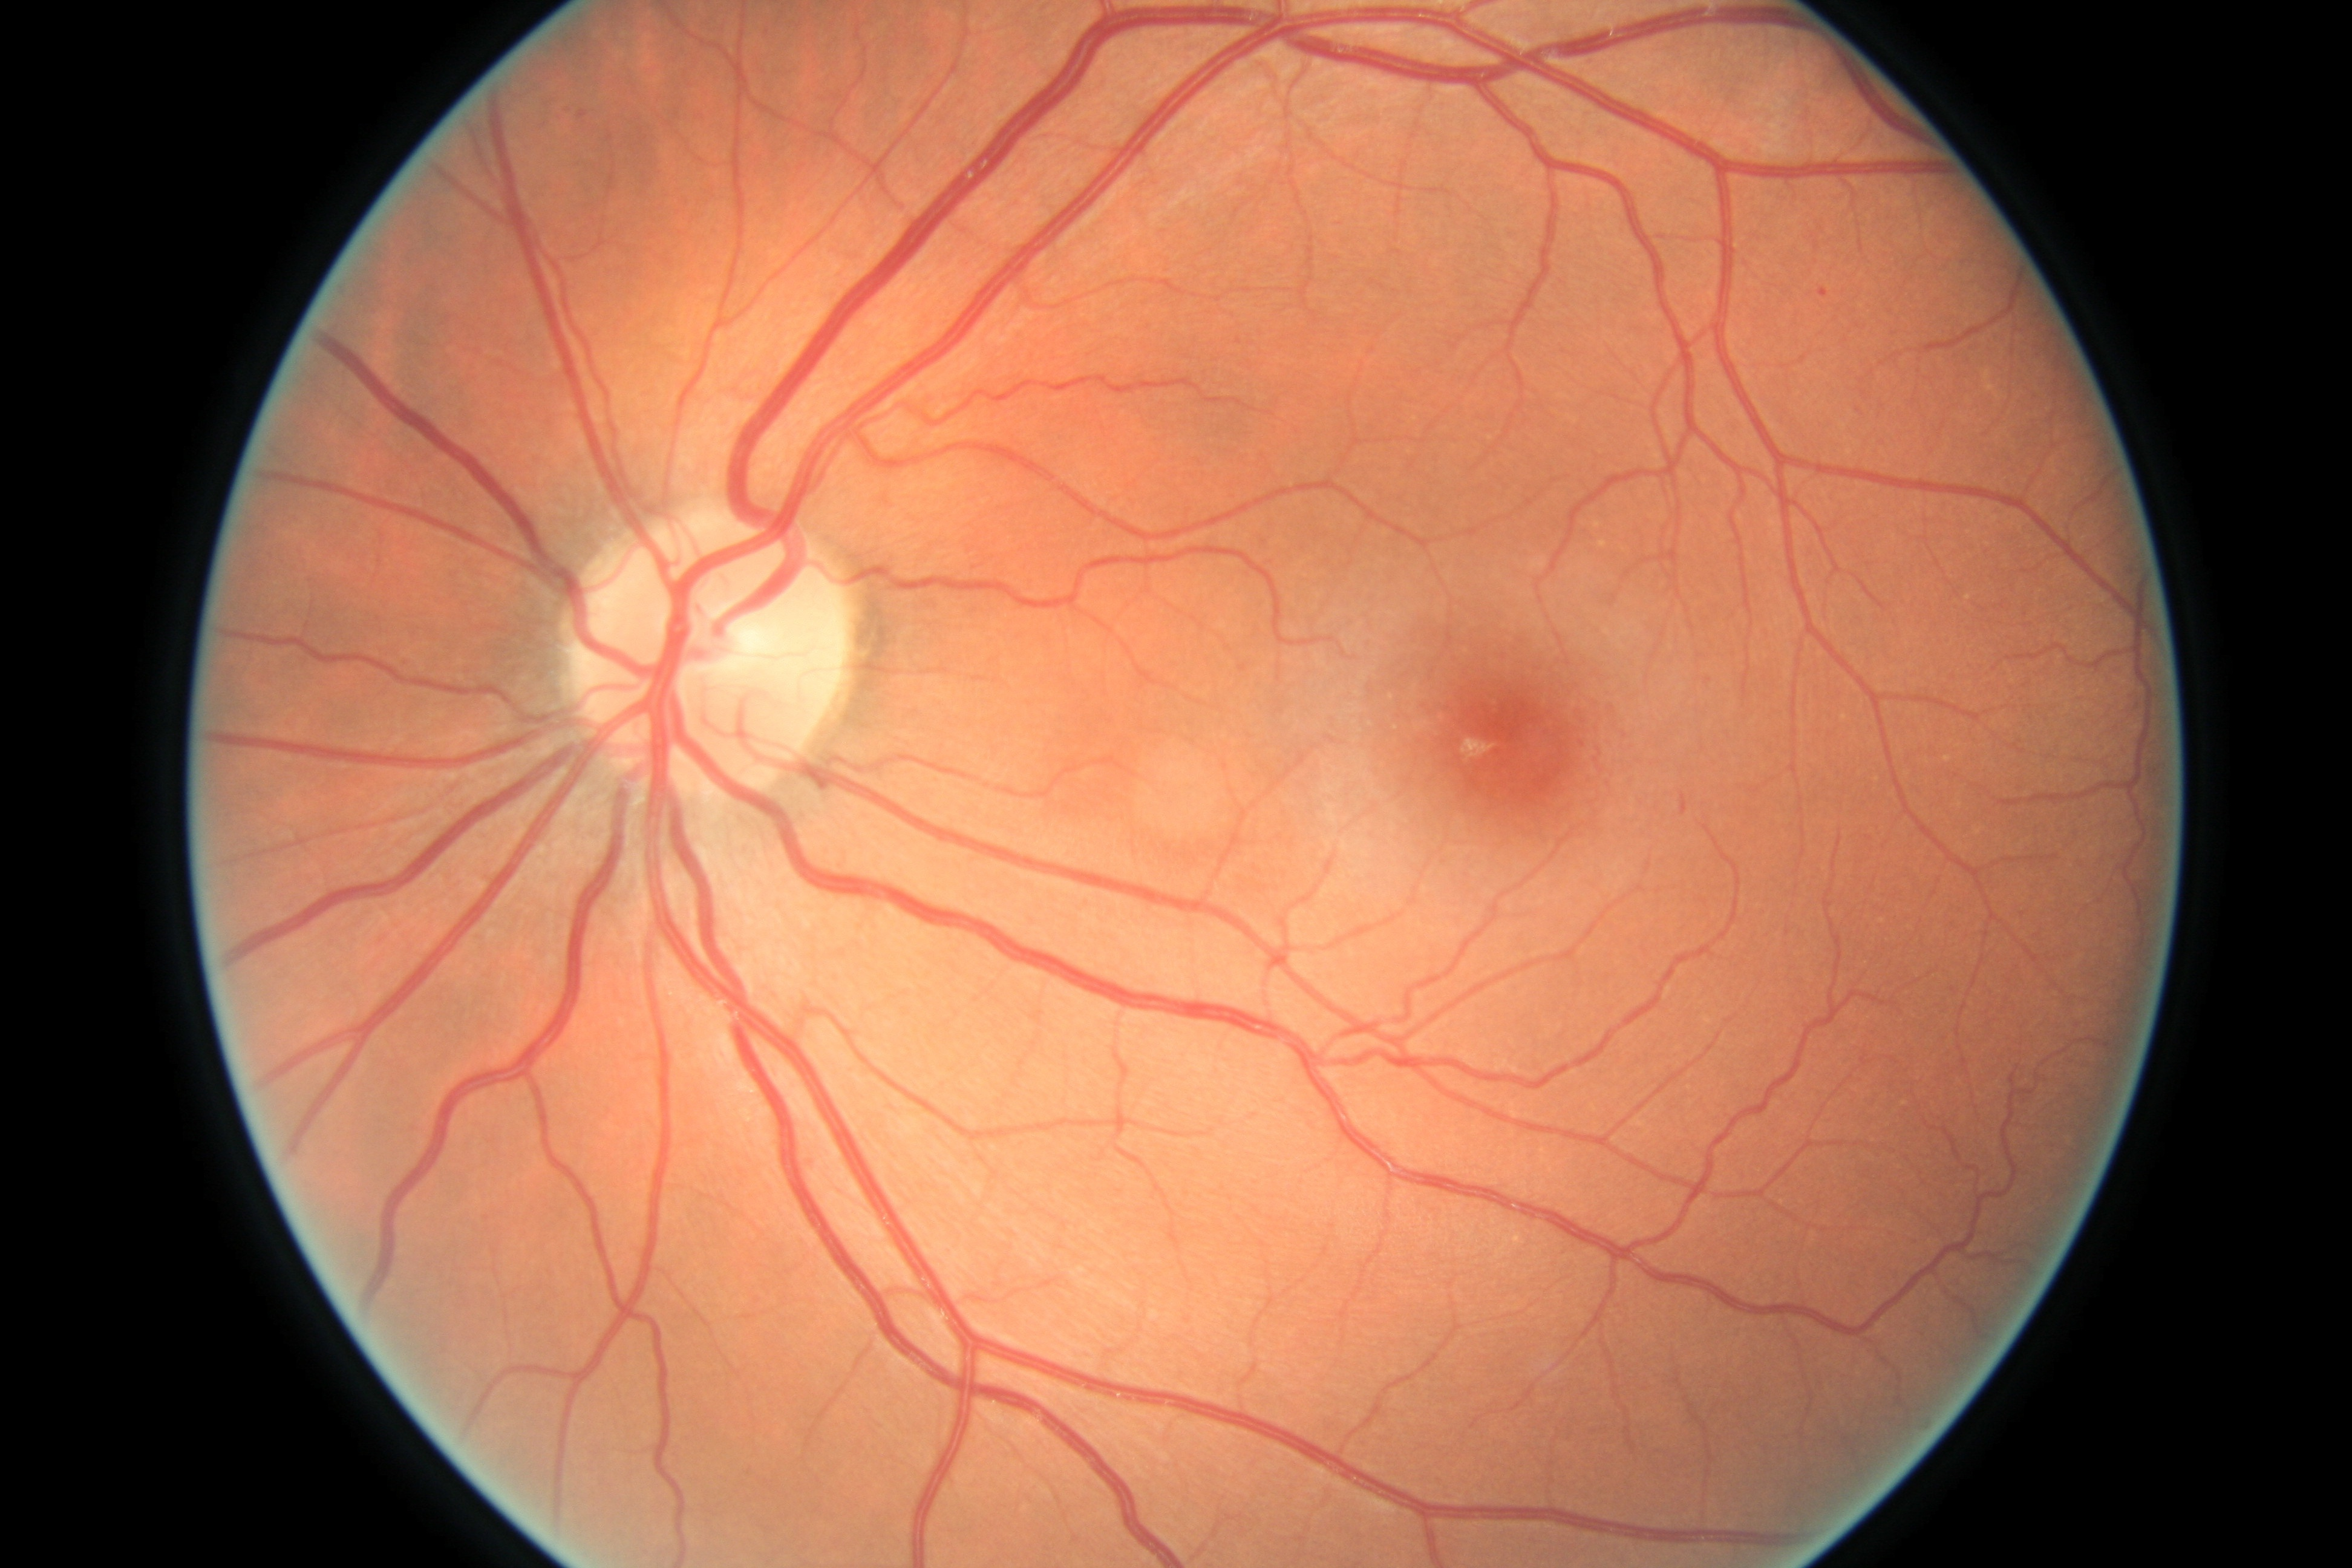Fovea: (1402, 668, 1626, 859)
OD: (551, 492, 877, 821)
